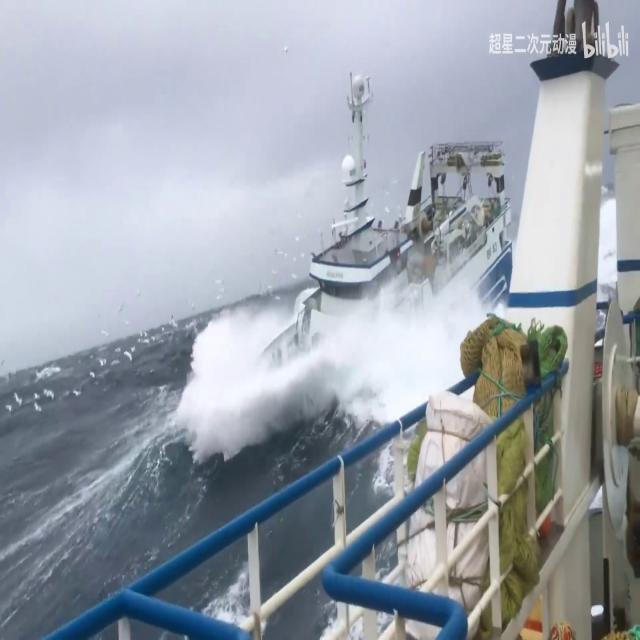houseboat: (226, 73, 516, 434)
